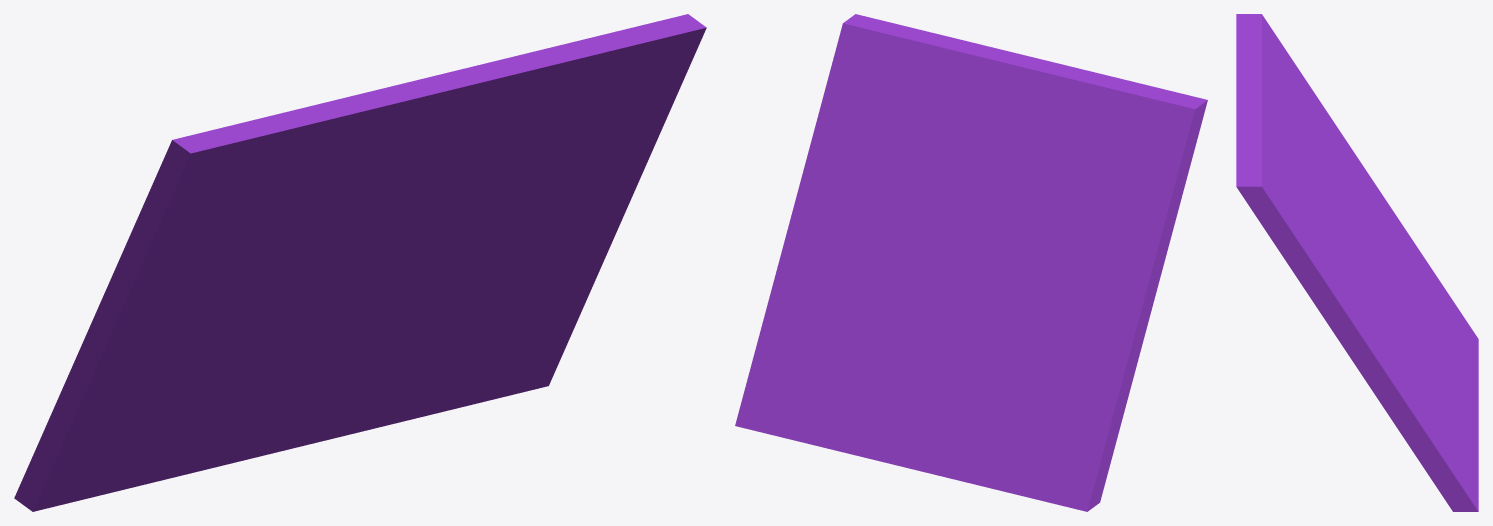
The model's file is Window_43.fbx.
The picture shows the model from 3 angles, left to right: view 1: azimuth 30°, elevation 25°; view 2: azimuth 150°, elevation 25°; view 3: azimuth 270°, elevation 25°; orthographic projection. The views are drawn at different scales.
Visible parts, largest first — view 1: Window_43; view 2: Window_43; view 3: Window_43.
Part boxes in pixels (bbox=[...]): Window_43: bbox=[14, 14, 706, 511]; Window_43: bbox=[735, 14, 1207, 511]; Window_43: bbox=[1236, 14, 1478, 511].
Size of the model in its own units: 1059 by 930 by 628.
